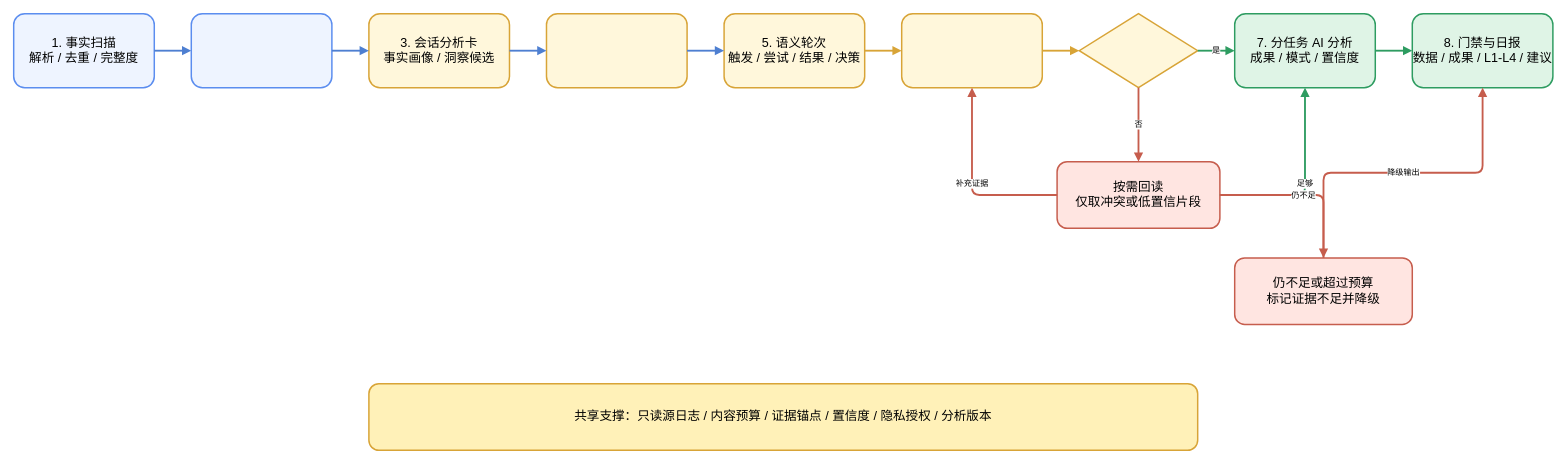
Image size: 1566x463. Some labels were removed from this diagram. Each missing label, with the centre of its shape:
"2. 来源分类 用户 / 系统 / 工具 / Agent" goes at [261,50].
"4. 任务关系图 拆分 / 继续 / 委派 / 无关" goes at [616,50].
"6. 任务证据包 主干 / 压缩过程 / 原文引用" goes at [972,50].
"证据是否 足够？" goes at [1138,50].
